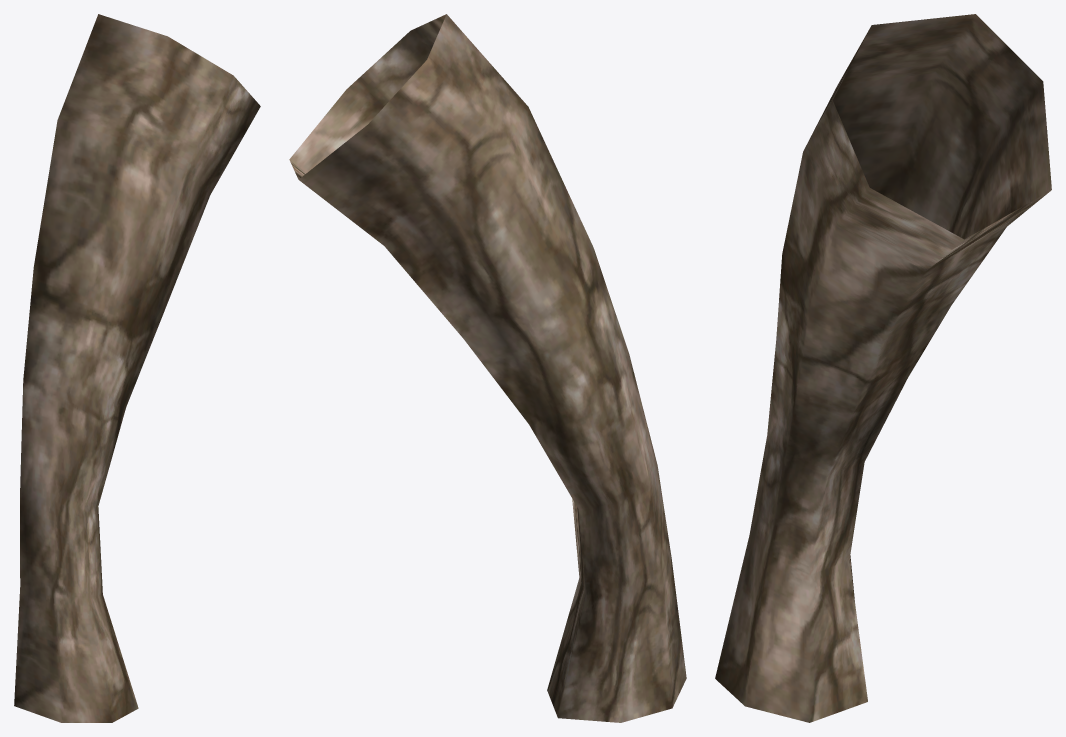
File: EKH_JAIL_PS_JA_GR_CYLINDER20.fbx
3 renders of one model, left to right at view 1: azimuth 30°, elevation 25°; view 2: azimuth 150°, elevation 25°; view 3: azimuth 270°, elevation 25°, orthographic. The views are drawn at different scales.
Parts seen in each view (by area): view 1: EKH_JAIL_PS_JA_GR_CYLINDER20; view 2: EKH_JAIL_PS_JA_GR_CYLINDER20; view 3: EKH_JAIL_PS_JA_GR_CYLINDER20.
Part boxes in pixels (x1,y1,x2,y2): EKH_JAIL_PS_JA_GR_CYLINDER20: (14, 14, 260, 722); EKH_JAIL_PS_JA_GR_CYLINDER20: (289, 14, 686, 722); EKH_JAIL_PS_JA_GR_CYLINDER20: (715, 14, 1051, 722).
Bounding box in the file's own units: 38274 × 79686 × 33066.
Materials: 1 (1 with a texture image).
